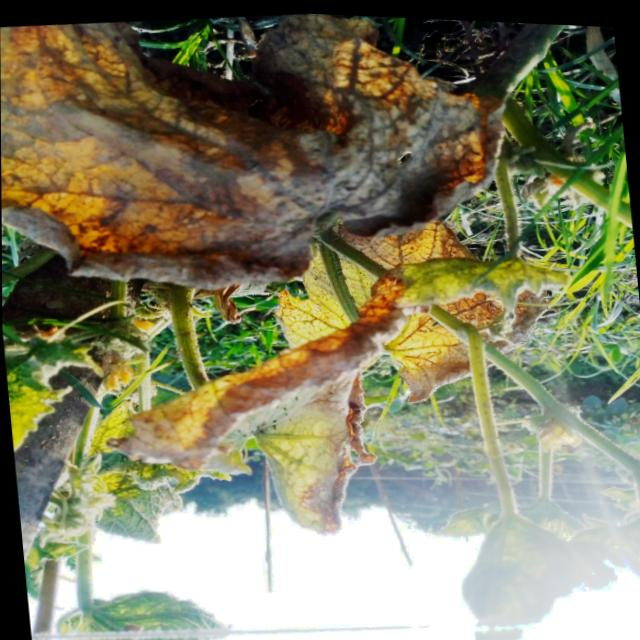Bacterial-Wilt: (0, 11, 510, 289)
